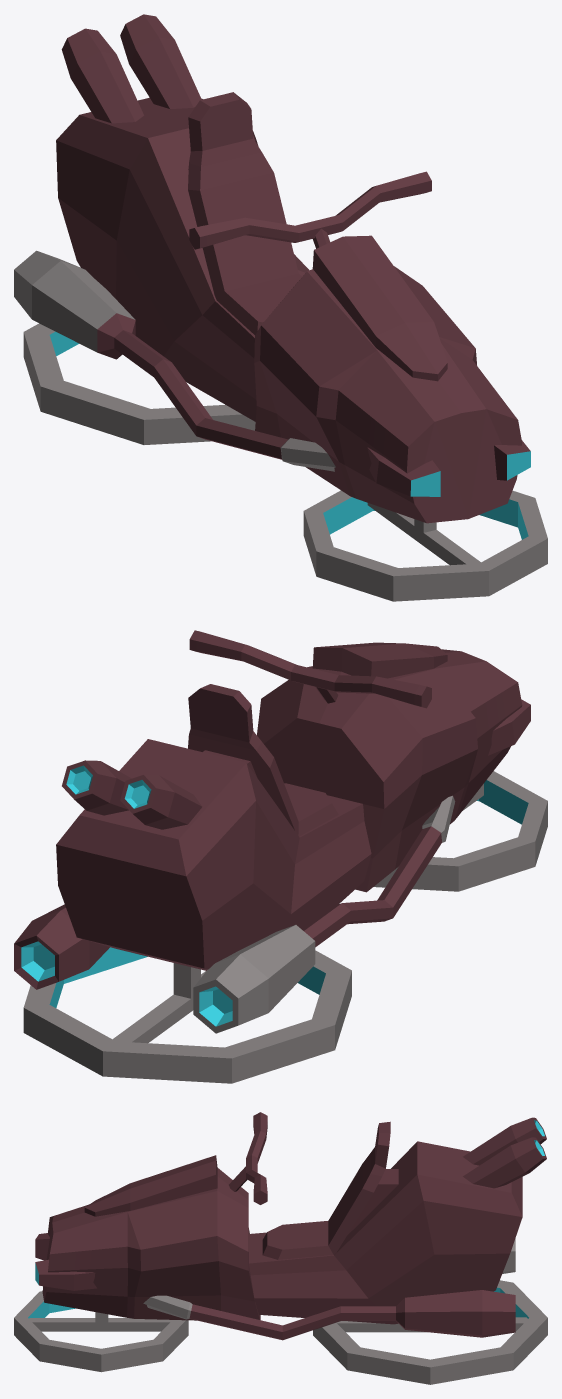
File: scifi-hoover.fbx
3 renders of one model, top to bottom at view 1: azimuth 30°, elevation 25°; view 2: azimuth 150°, elevation 25°; view 3: azimuth 270°, elevation 25°, orthographic. The views are drawn at different scales.
Visible parts, largest first — view 1: scifi-hoover; view 2: scifi-hoover; view 3: scifi-hoover.
Boxes of the visible parts, bbox=[...] form: scifi-hoover: bbox=[14, 14, 547, 601]; scifi-hoover: bbox=[14, 630, 547, 1083]; scifi-hoover: bbox=[14, 1112, 547, 1384].
Bounding box in the file's own units: 1.14 × 1.11 × 2.58.
